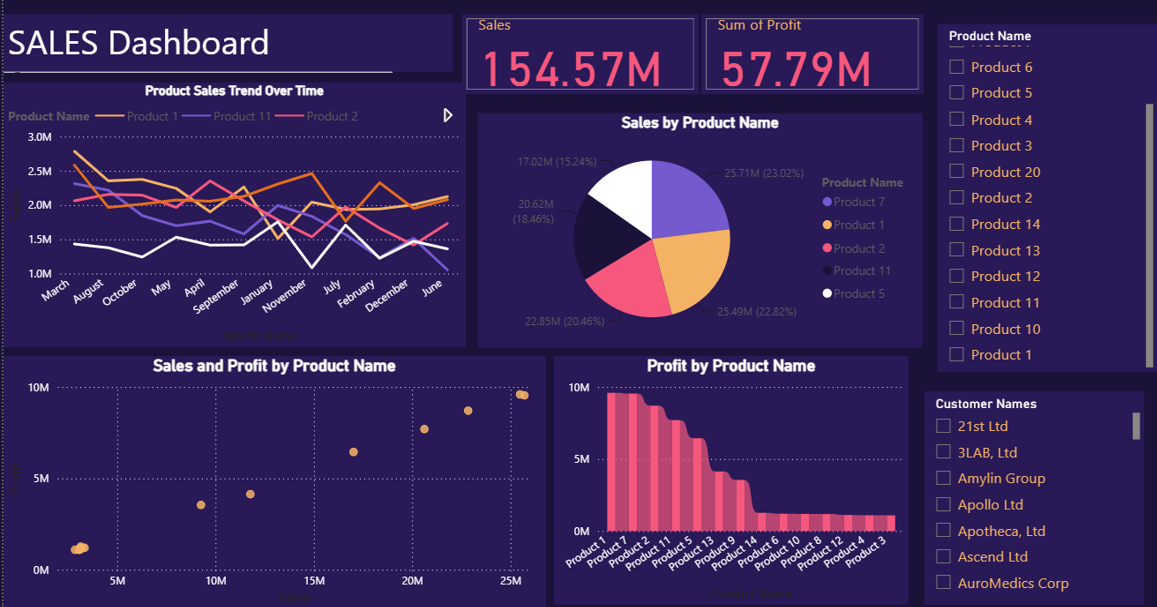

What the dashboard file says about the page in this screenshot:
{"tool":"powerbi","page":{"name":"Page 1","canvas":[1280,720],"ordinal":0},"visuals":[{"type":"ribbonChart","fields":{"Category":["Products_Data.Product Name"],"Y":["Measure Table.Profit"]},"box":[610,438.8,393.8,276.2],"z":0},{"type":"cardVisual","box":[0,116.2,431.2,8.8],"z":1000},{"type":"actionButton","box":[0,0,100,40],"z":2000},{"type":"scatterChart","fields":{"Category":["Products_Data.Product Name"],"X":["Measure Table.Sales"],"Y":["Measure Table.Profit"]},"box":[0,438.8,601.2,281.2],"z":3000},{"type":"lineChart","title":"Product Sales Trend Over Time","fields":{"Category":["DateTable.Month Name"],"Series":["Products_Data.Product Name"],"Y":["Measure Table.Sales"]},"box":[0,136.2,512.5,293.8],"z":4000},{"type":"textbox","box":[0,60,498.6,64.3],"z":5000},{"type":"pieChart","fields":{"Category":["Products_Data.Product Name"],"Y":["Measure Table.Sales"]},"box":[526.4,170,493.6,260],"z":6000},{"type":"cardVisual","fields":{"Data":["Measure Table.Sales"]},"box":[509.1,60,262.7,89.1],"z":7000},{"type":"cardVisual","fields":{"Data":["Sum(Sales_Data.Profit)"]},"box":[773.6,60,246.4,89.1],"z":8000},{"type":"slicer","fields":{"Values":["Products_Data.Product Name"]},"box":[1036,71.4,244.3,385.6],"z":9000},{"type":"slicer","fields":{"Values":["Customer_Data.Customer Names"]},"box":[1020.9,477.5,244.3,237.4],"z":9001}]}

Visuals, with their boxes on the page's 1280x720 design canvas (x1, y1, x2, y2). These are canvas units, not pixel positions in the 1157x607 screenshot, which may show the page scaled, cropped or inside an application window:
ribbonChart - Products_Data.Product Name x Measure Table.Profit: (610, 439, 1004, 715)
cardVisual: (0, 116, 431, 125)
actionButton: (0, 0, 100, 40)
scatterChart - Products_Data.Product Name x Measure Table.Sales: (0, 439, 601, 720)
"Product Sales Trend Over Time" lineChart: (0, 136, 512, 430)
textbox: (0, 60, 499, 124)
pieChart - Products_Data.Product Name x Measure Table.Sales: (526, 170, 1020, 430)
cardVisual - Measure Table.Sales: (509, 60, 772, 149)
cardVisual - Sum(Sales_Data.Profit): (774, 60, 1020, 149)
slicer - Products_Data.Product Name: (1036, 71, 1280, 457)
slicer - Customer_Data.Customer Names: (1021, 478, 1265, 715)
